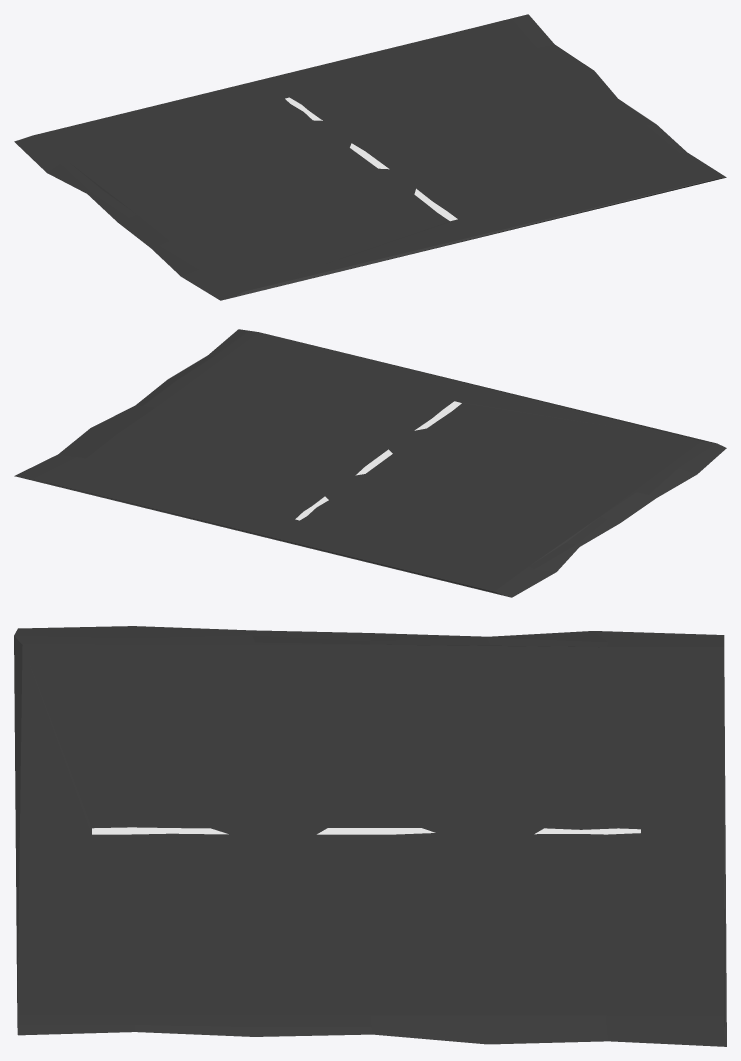
File: Estrada2.fbx
3 renders of one model, top to bottom at view 1: azimuth 30°, elevation 25°; view 2: azimuth 150°, elevation 25°; view 3: azimuth 270°, elevation 25°, orthographic. The views are drawn at different scales.
Visible parts, largest first — view 1: Cube.006; view 2: Cube.006; view 3: Cube.006.
Boxes of the visible parts, x1,y1,x2,y2 form: Cube.006: (14, 14, 726, 300); Cube.006: (14, 329, 726, 597); Cube.006: (14, 626, 726, 1046).
Bounding box in the file's own units: 5956 × 31.05 × 4237.
